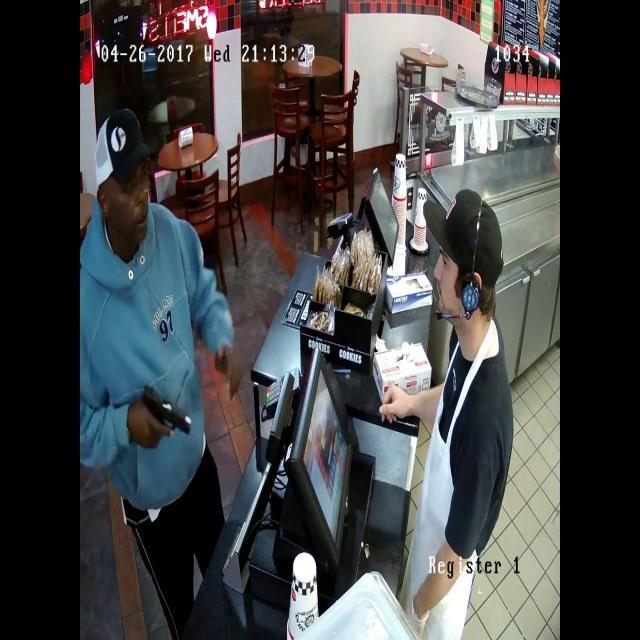weapon: (117, 376, 206, 456)
